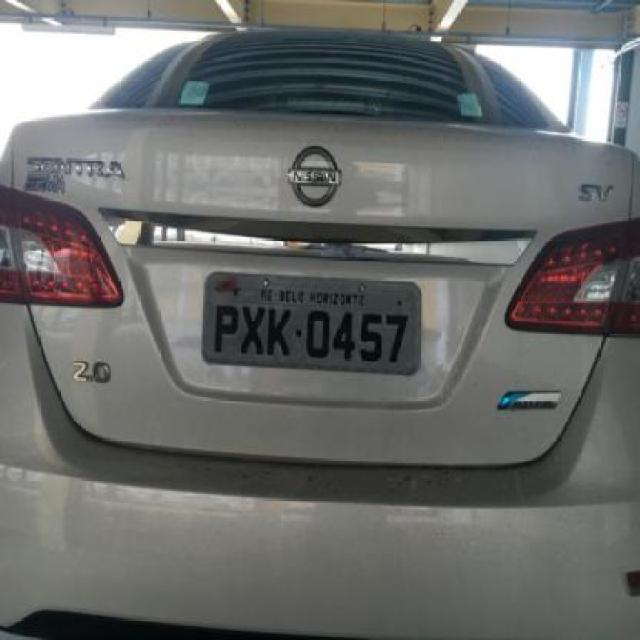old_plate: (195, 267, 430, 382)
